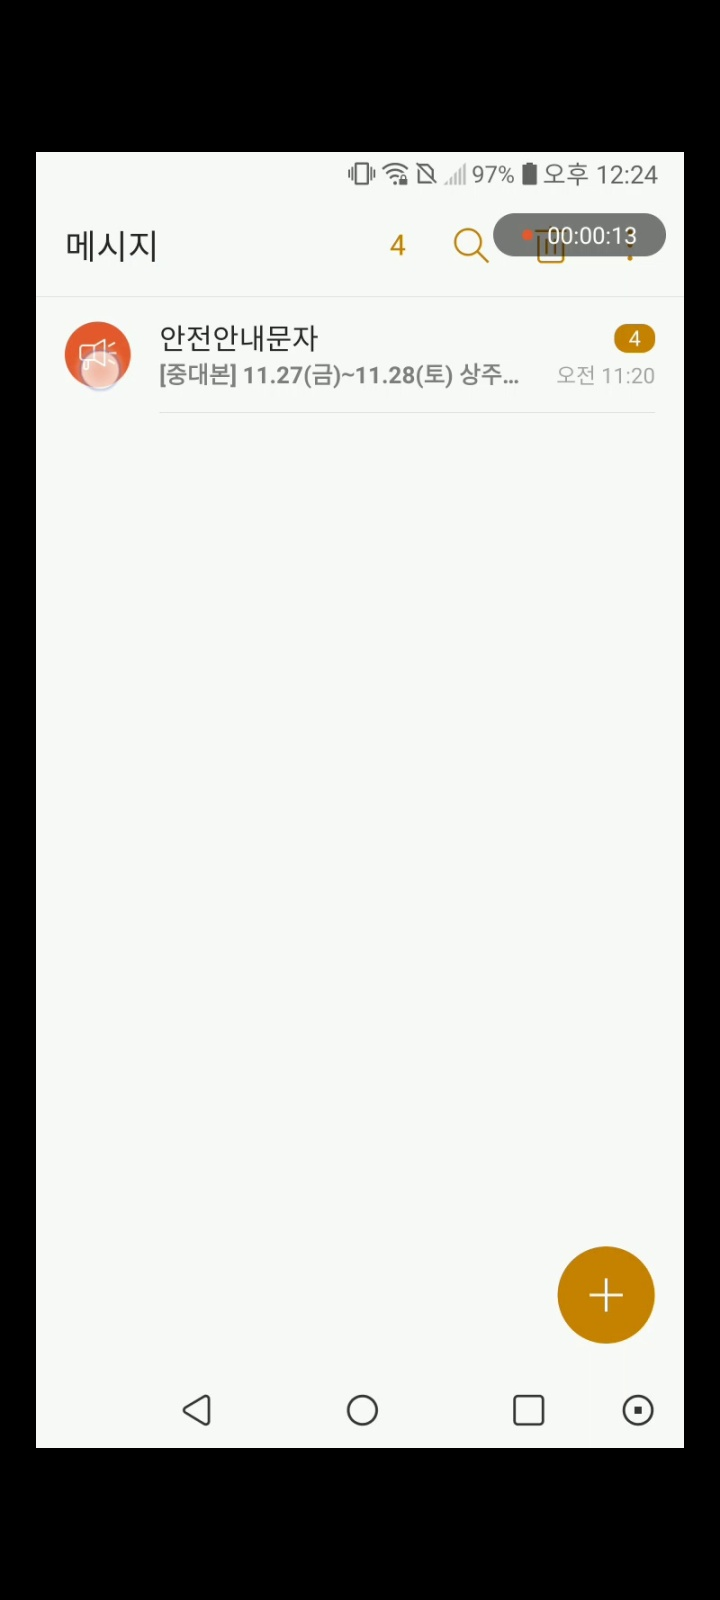Cursor: (78, 349, 123, 394)
